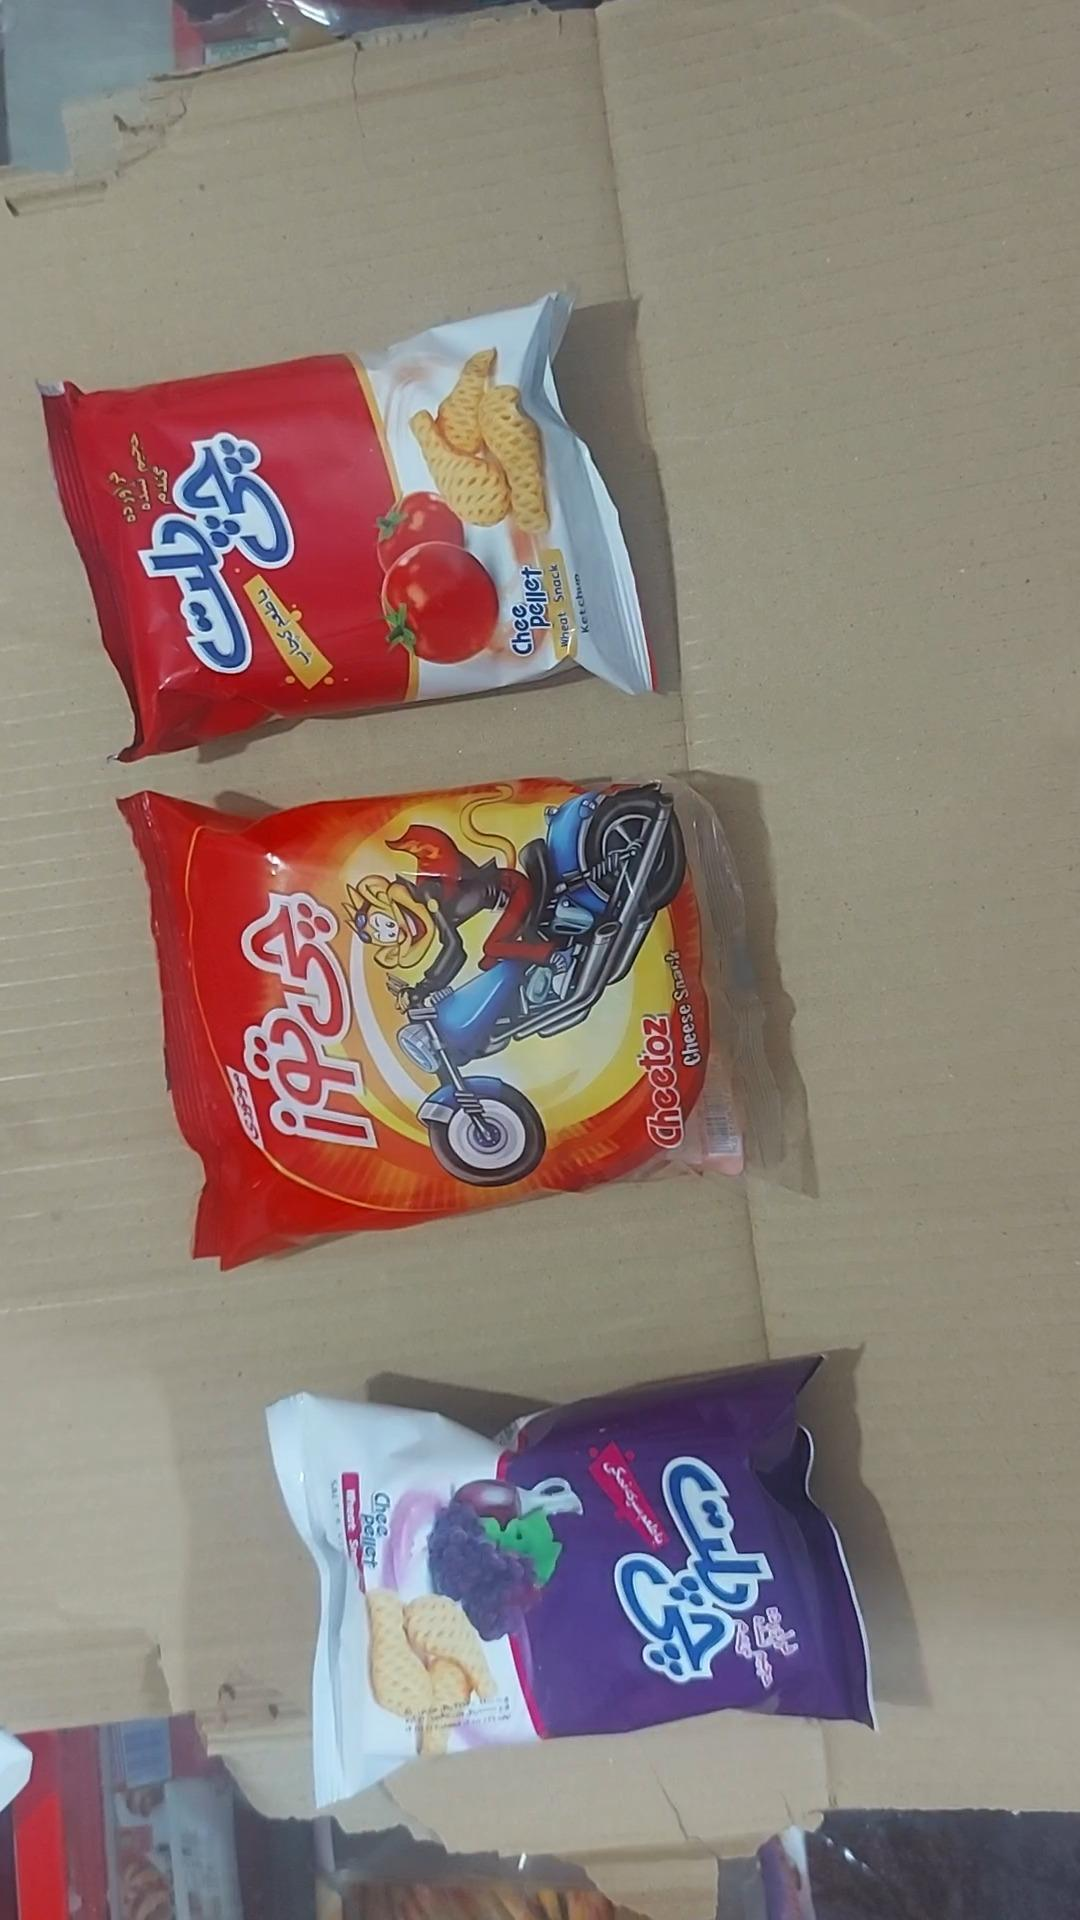Chee pellet ketchup: (42, 294, 657, 761)
Chee pellet vinegar: (266, 1358, 876, 1807)
Cheetoz snack 30g: (119, 779, 785, 1269)
